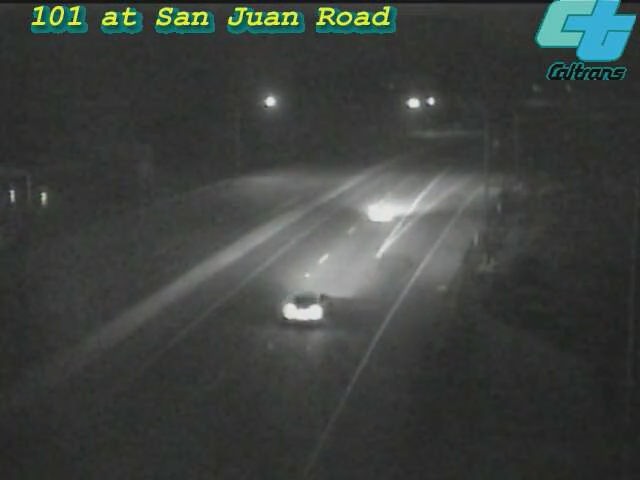vehicle: (344, 171, 424, 251), (267, 263, 347, 343)
